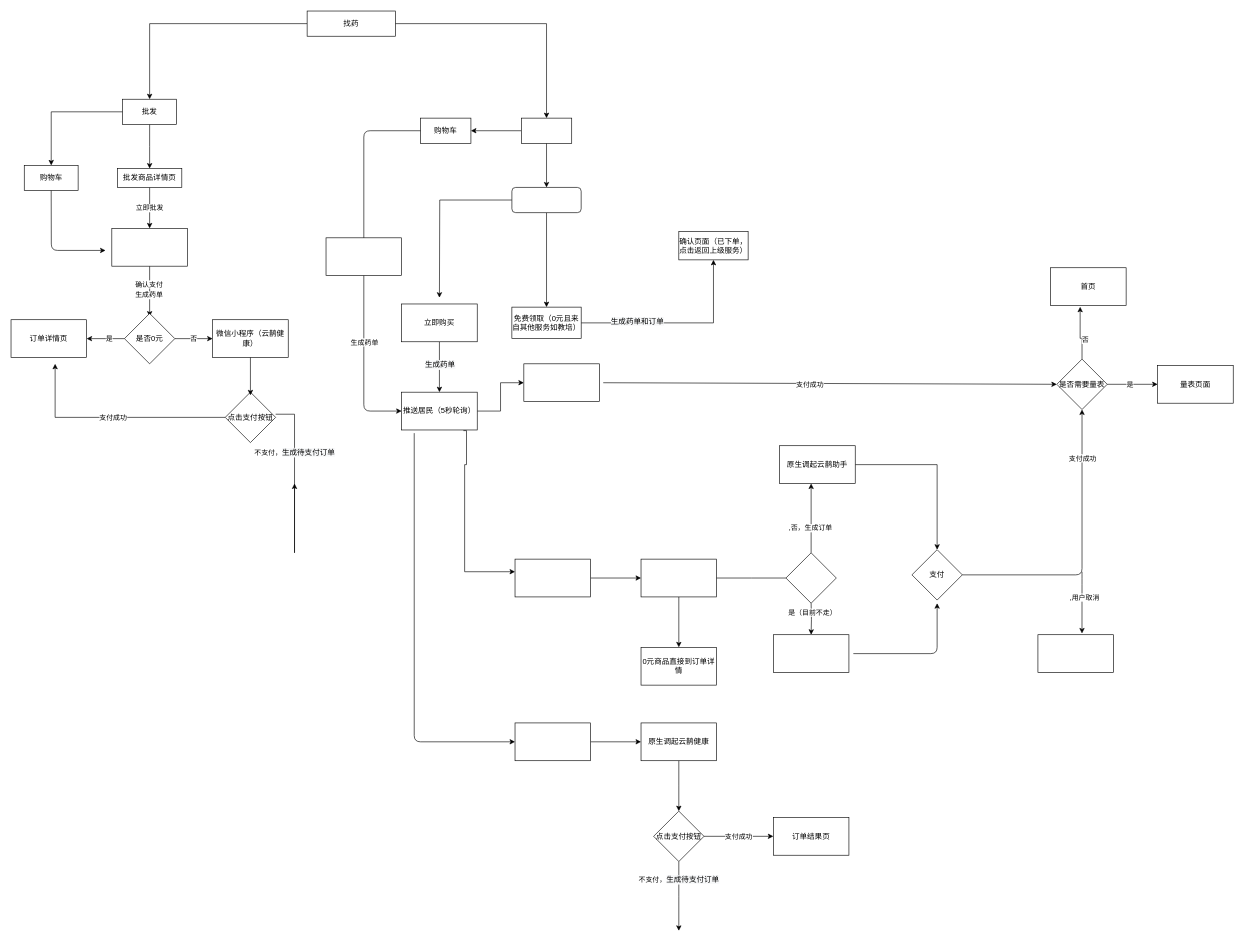
This 1244x947 diagram has some shape labels left out. Each missing label, with the centre of its shape:
"代付" belongs at (x=552, y=577).
"分享病人支付" belongs at (x=552, y=741).
"原生调起微信支付" belongs at (x=811, y=653).
"填写订单页面（5秒轮询）" belongs at (x=149, y=247).
"太阳码" belongs at (x=561, y=382).
"帮病人支付页" belongs at (x=678, y=577).
"是否汇付支付" belongs at (x=810, y=577).
"订单填写页" belongs at (x=363, y=256).
"订单详情页（会有待支付订单）" belongs at (x=1075, y=653).
"零售" belongs at (x=546, y=130).
"零售详情页(服务或商品)" belongs at (x=546, y=200).
